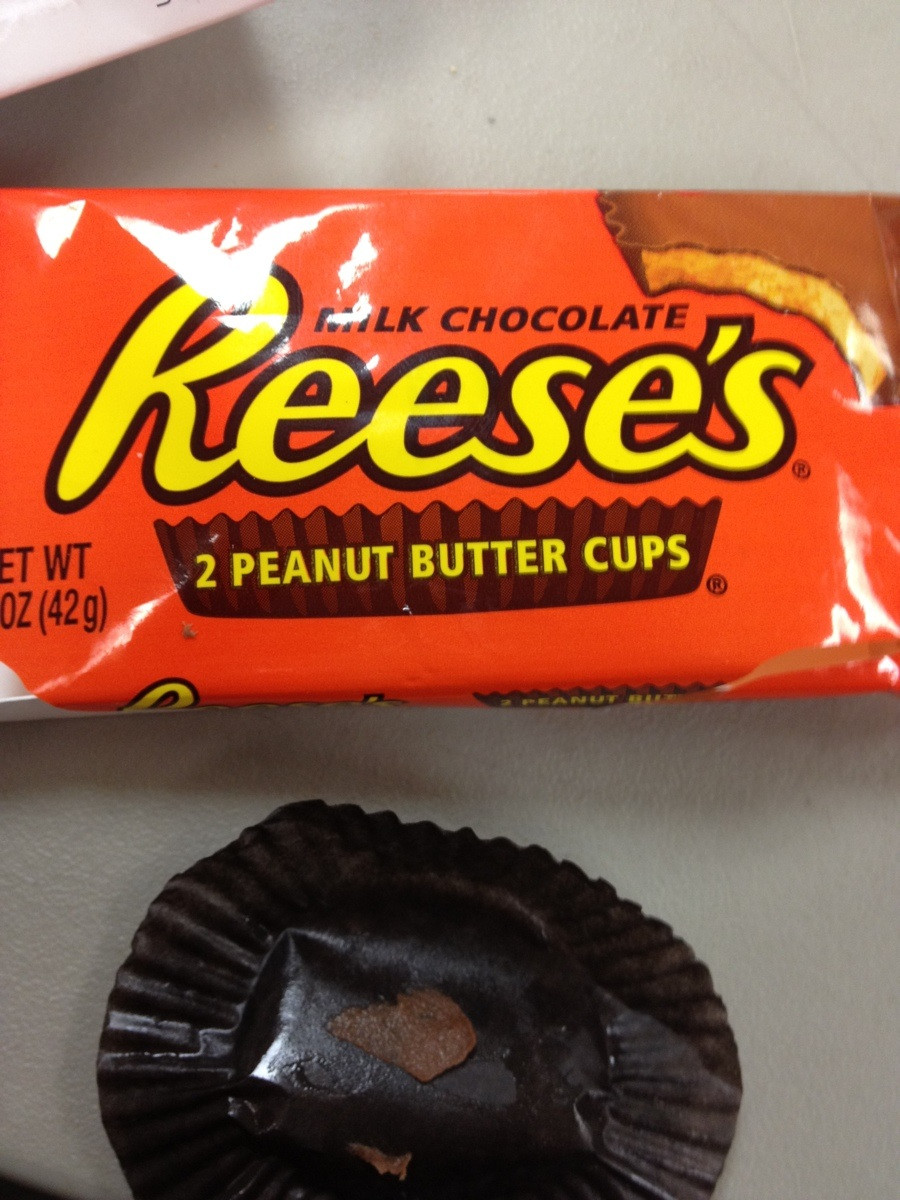reese: (4, 190, 894, 711)
